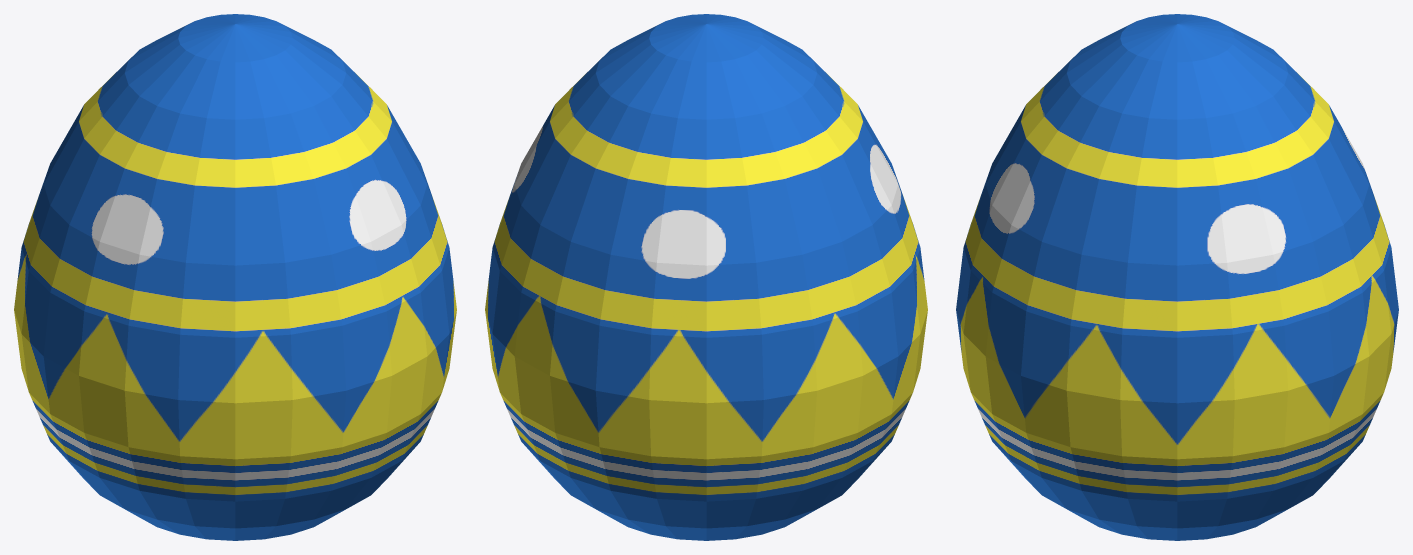
Rendered from Egg.glb.
The picture shows the model from 3 angles, left to right: view 1: azimuth 30°, elevation 25°; view 2: azimuth 150°, elevation 25°; view 3: azimuth 270°, elevation 25°; orthographic projection.
Visible parts, largest first — view 1: Sphère; view 2: Sphère; view 3: Sphère.
Boxes of the visible parts, bbox=[...] form: Sphère: bbox=[14, 14, 456, 540]; Sphère: bbox=[485, 14, 927, 540]; Sphère: bbox=[956, 14, 1398, 540].
Bounding box in the file's own units: 2 × 2.48 × 2.
Materials: 1 (1 with a texture image).
